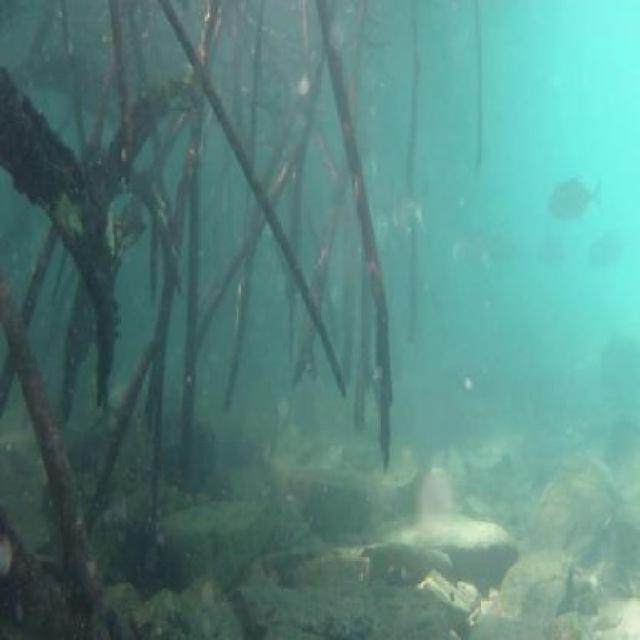Caranx_sexfasciatus_juvenile: (546, 172, 605, 230), (393, 174, 429, 243), (592, 229, 630, 280)
